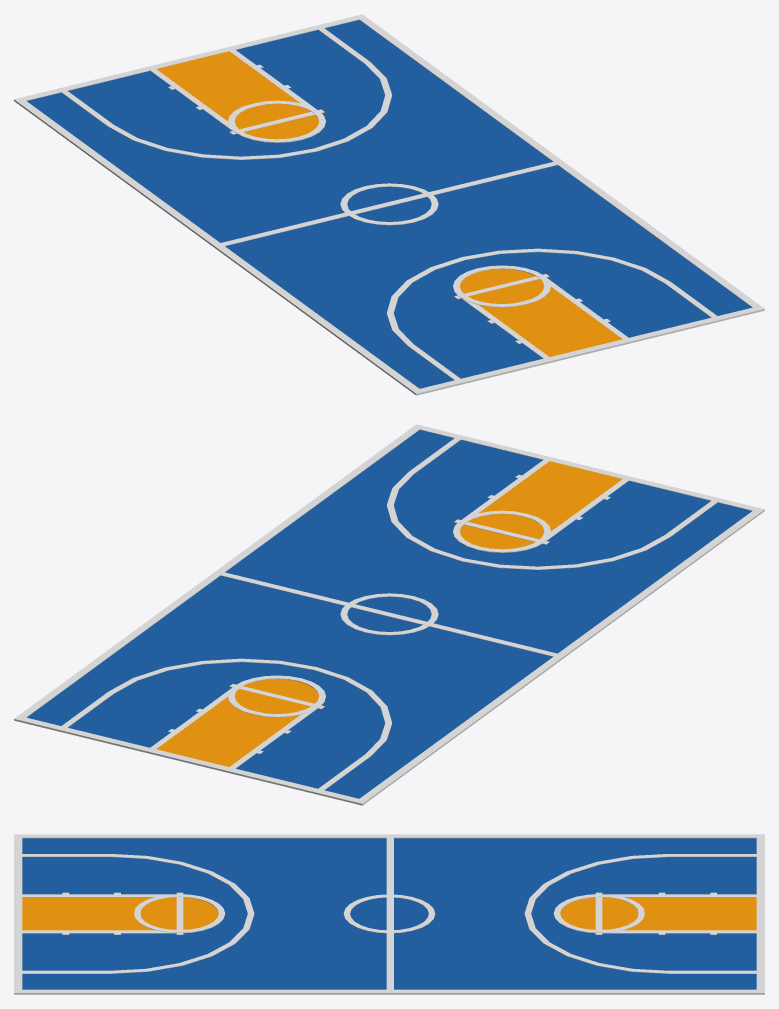
The model's file is Basketball_Court_1.glb.
3 views of the same model, one above another, from view 1: azimuth 30°, elevation 25°; view 2: azimuth 150°, elevation 25°; view 3: azimuth 270°, elevation 25° (orthographic). The views are drawn at different scales.
Visible parts, largest first — view 1: Basketball_Court_1; view 2: Basketball_Court_1; view 3: Basketball_Court_1.
Part boxes in pixels (left/top/right/bottom): Basketball_Court_1: left=14, top=14, right=764, bottom=395; Basketball_Court_1: left=14, top=424, right=764, bottom=805; Basketball_Court_1: left=14, top=834, right=764, bottom=994.
Bounding box in the file's own units: 8 × 0.0445 × 16.
1 material, 1 textured.
